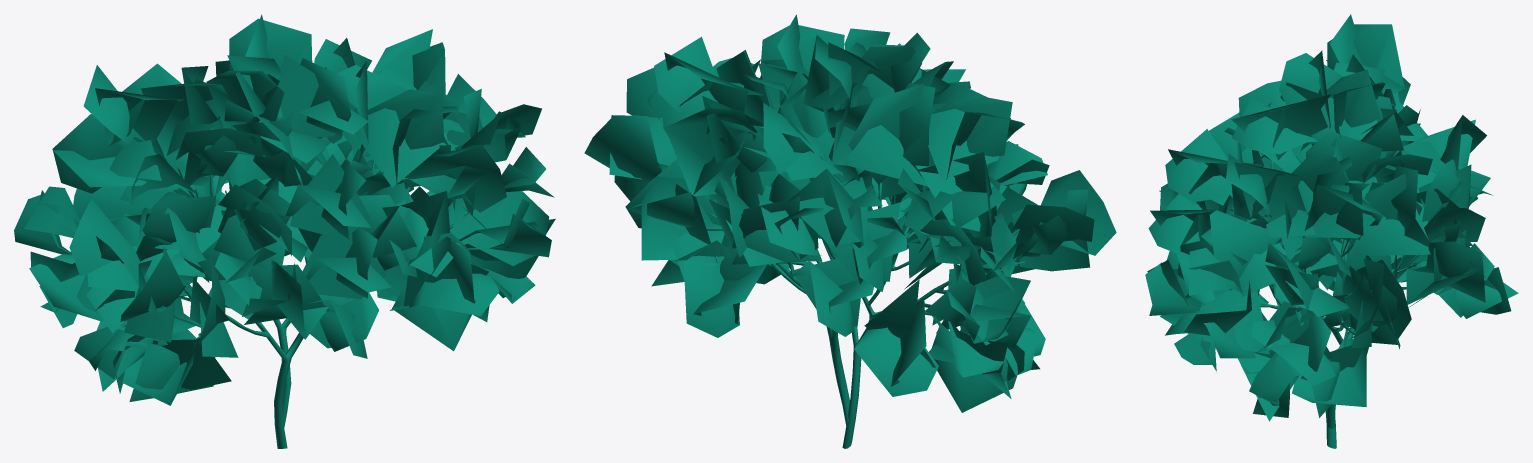
3 views of the same model, side by side, from view 1: azimuth 30°, elevation 25°; view 2: azimuth 150°, elevation 25°; view 3: azimuth 270°, elevation 25° (orthographic). The views are drawn at different scales.
Parts seen in each view (by area): view 1: AM113_033_fraxinus; view 2: AM113_033_fraxinus; view 3: AM113_033_fraxinus.
Boxes of the visible parts, <box> form: AM113_033_fraxinus: <box>14,14,555,448</box>; AM113_033_fraxinus: <box>584,14,1116,448</box>; AM113_033_fraxinus: <box>1145,14,1518,448</box>.
Size of the model in its own units: 6324 by 5373 by 4810.
